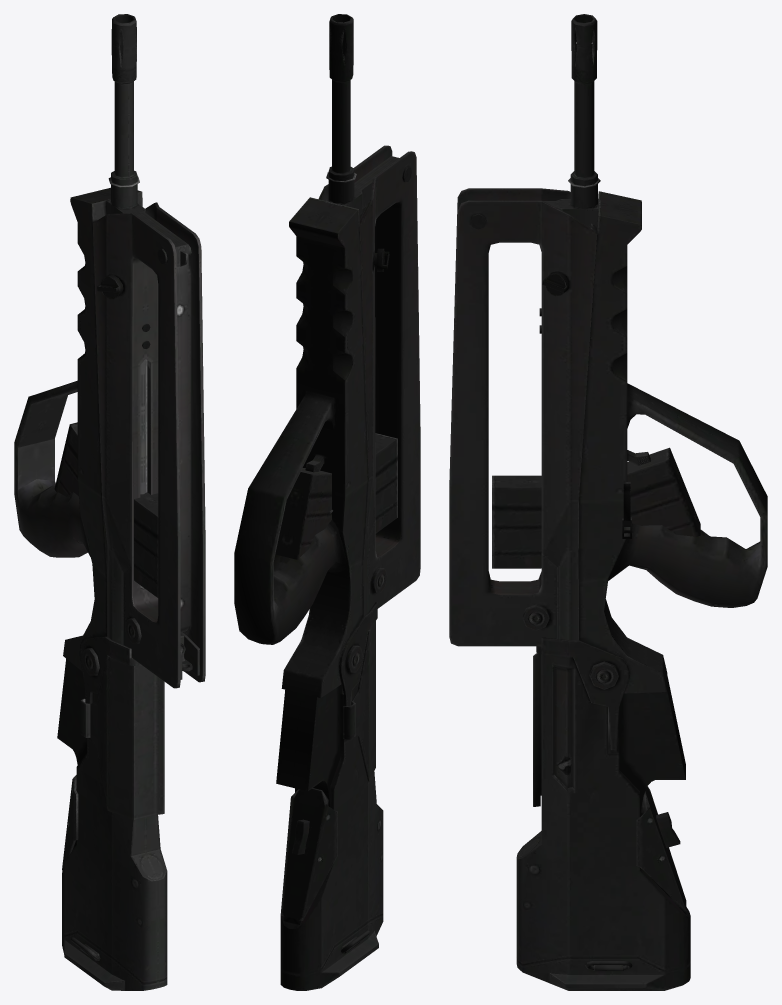
File: FAMAS_G2.obj
3 renders of one model, left to right at view 1: azimuth 30°, elevation 25°; view 2: azimuth 150°, elevation 25°; view 3: azimuth 270°, elevation 25°, orthographic. The views are drawn at different scales.
Parts seen in each view (by area): view 1: Model_Famas_G2, Model_Magazine; view 2: Model_Famas_G2, Model_Magazine; view 3: Model_Famas_G2, Model_Magazine.
Part boxes in pixels (bbox=[...]): Model_Famas_G2: bbox=[14, 14, 205, 990]; Model_Magazine: bbox=[54, 422, 158, 597]; Model_Famas_G2: bbox=[234, 14, 420, 990]; Model_Magazine: bbox=[275, 433, 397, 559]; Model_Famas_G2: bbox=[449, 14, 767, 990]; Model_Magazine: bbox=[492, 447, 700, 568].
Size of the model in its own units: 0.0607 by 0.7466 by 0.2237.
Materials: 1 (1 with a texture image).
